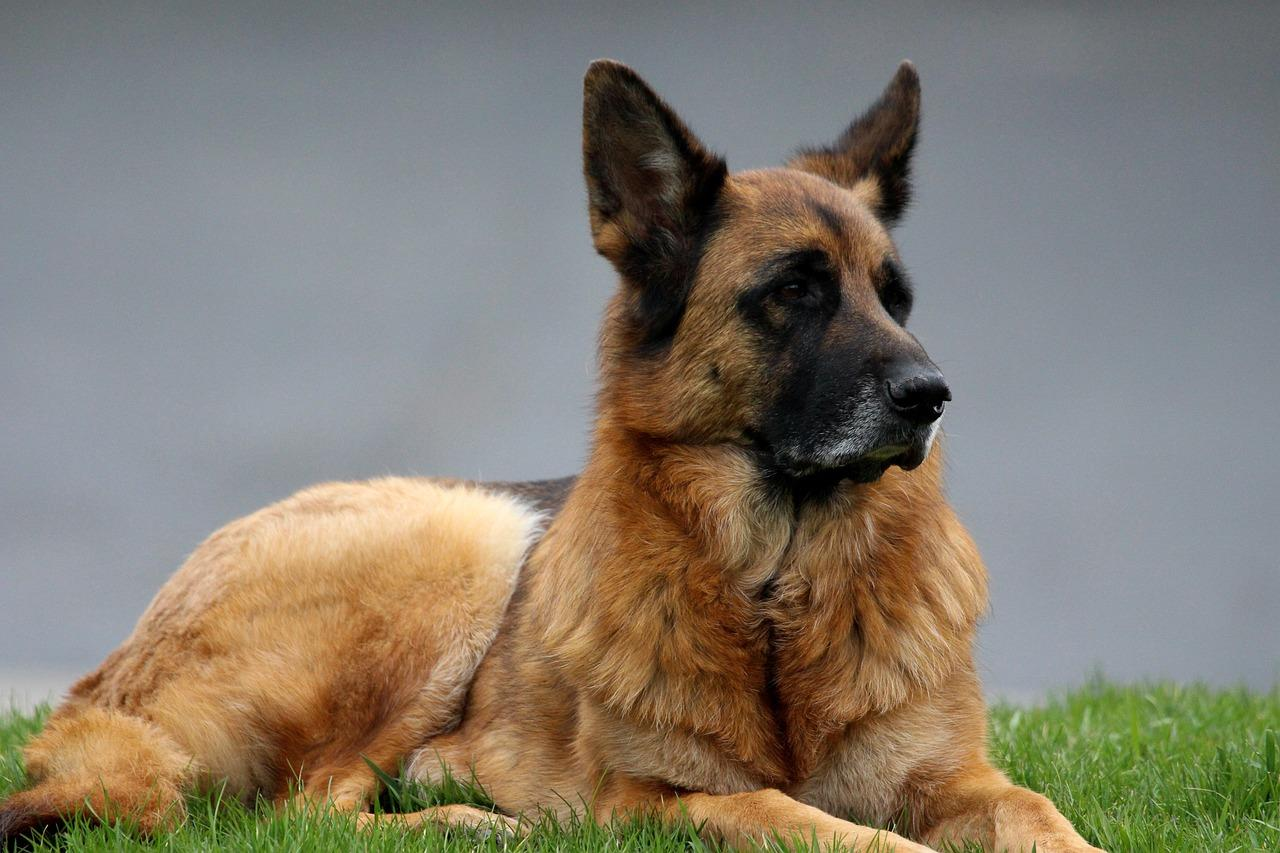german_shepherd: (581, 79, 979, 519)
